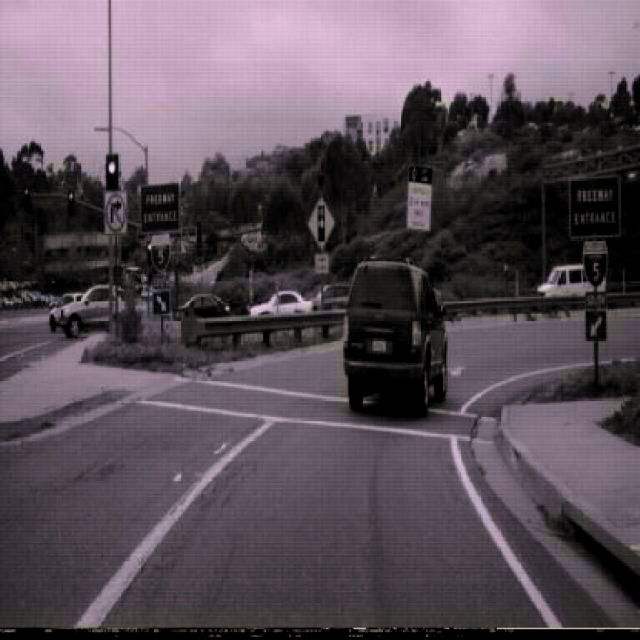noRightTurn: (105, 192, 126, 235)
signalAhead: (306, 194, 336, 251)
